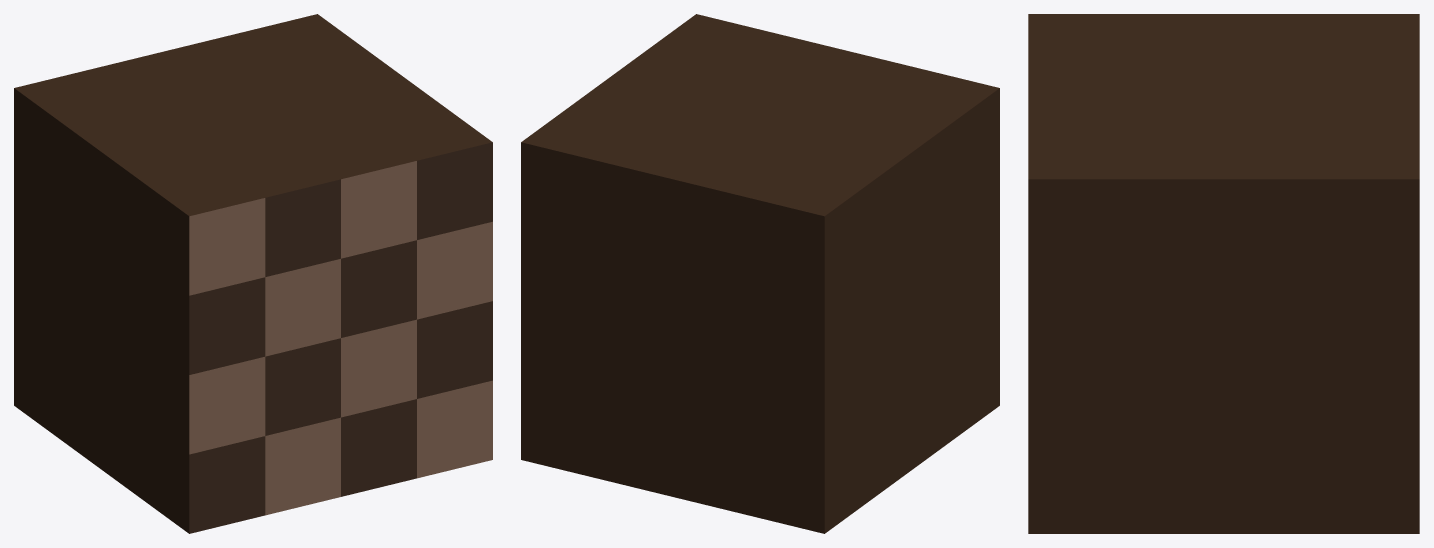
File: wall2Flat.fbx
3 views of the same model, side by side, from view 1: azimuth 30°, elevation 25°; view 2: azimuth 150°, elevation 25°; view 3: azimuth 270°, elevation 25° (orthographic). The views are drawn at different scales.
Visible parts, largest first — view 1: Cube; view 2: Cube; view 3: Cube.
Boxes of the visible parts, x1=… form: Cube: x1=14, y1=14, x2=492, y2=533; Cube: x1=521, y1=14, x2=999, y2=533; Cube: x1=1028, y1=14, x2=1419, y2=533.
Bounding box in the file's own units: 100 × 100 × 100.
